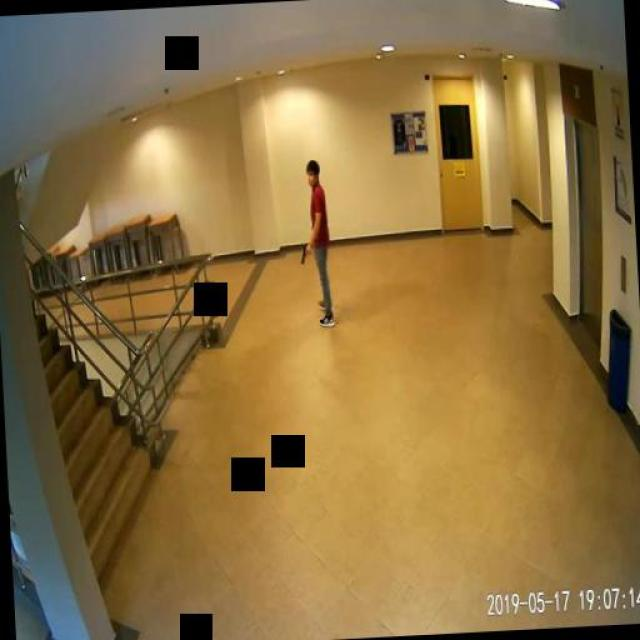gun: (299, 242, 311, 262)
